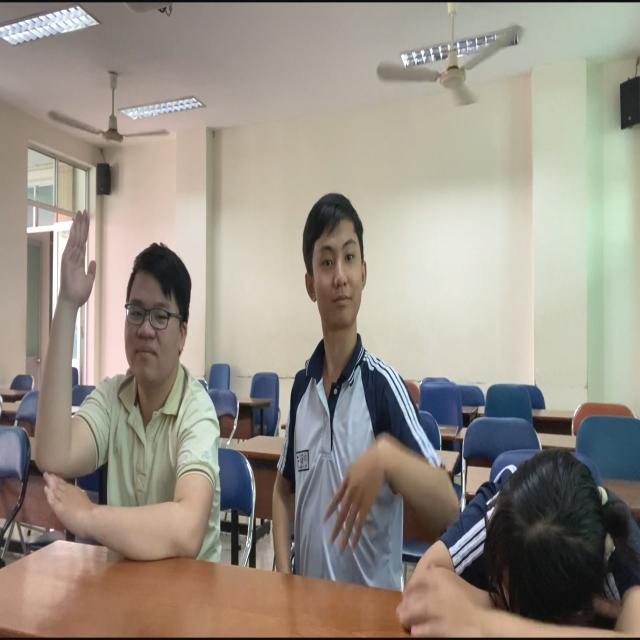raise_hand: (31, 197, 226, 578)
sleep: (405, 420, 640, 640)
